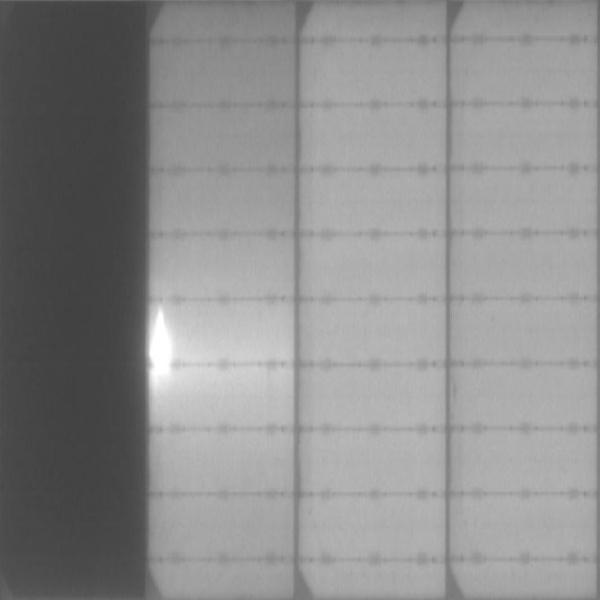hot_spot: (147, 308, 174, 393)
no_electricity: (1, 1, 147, 597)
